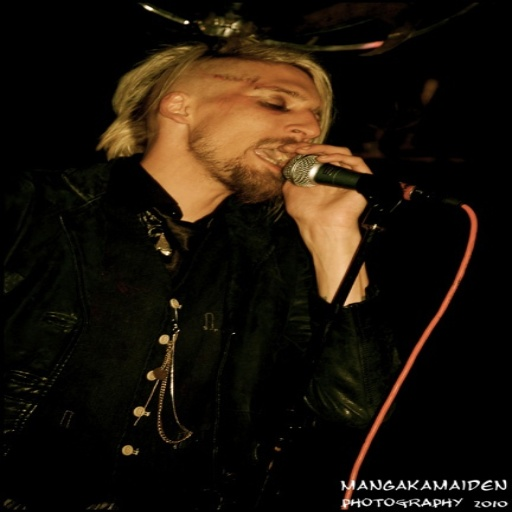hand: (278, 140, 372, 226)
